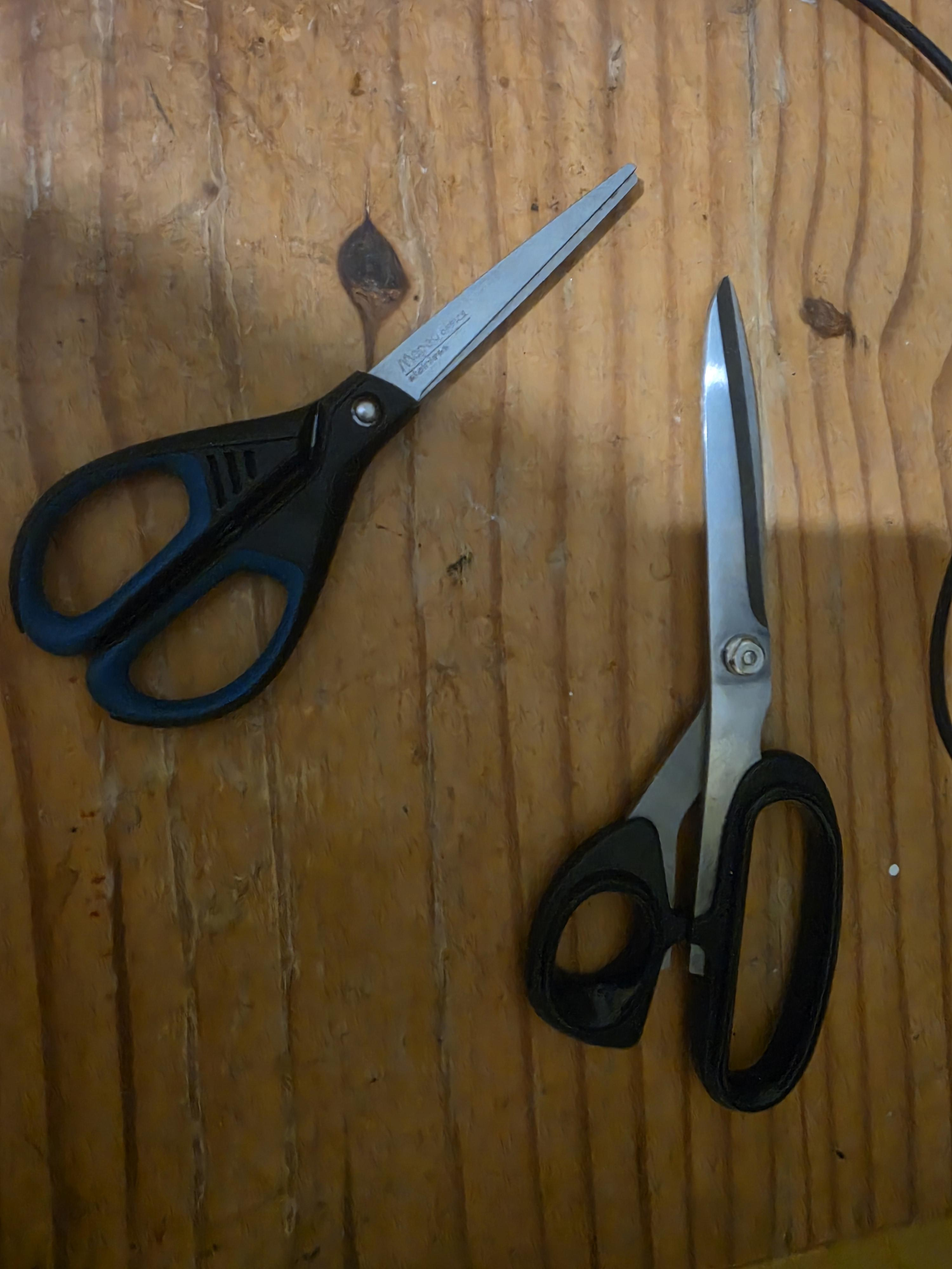scissors: (10, 162, 638, 727), (525, 275, 845, 1114)
